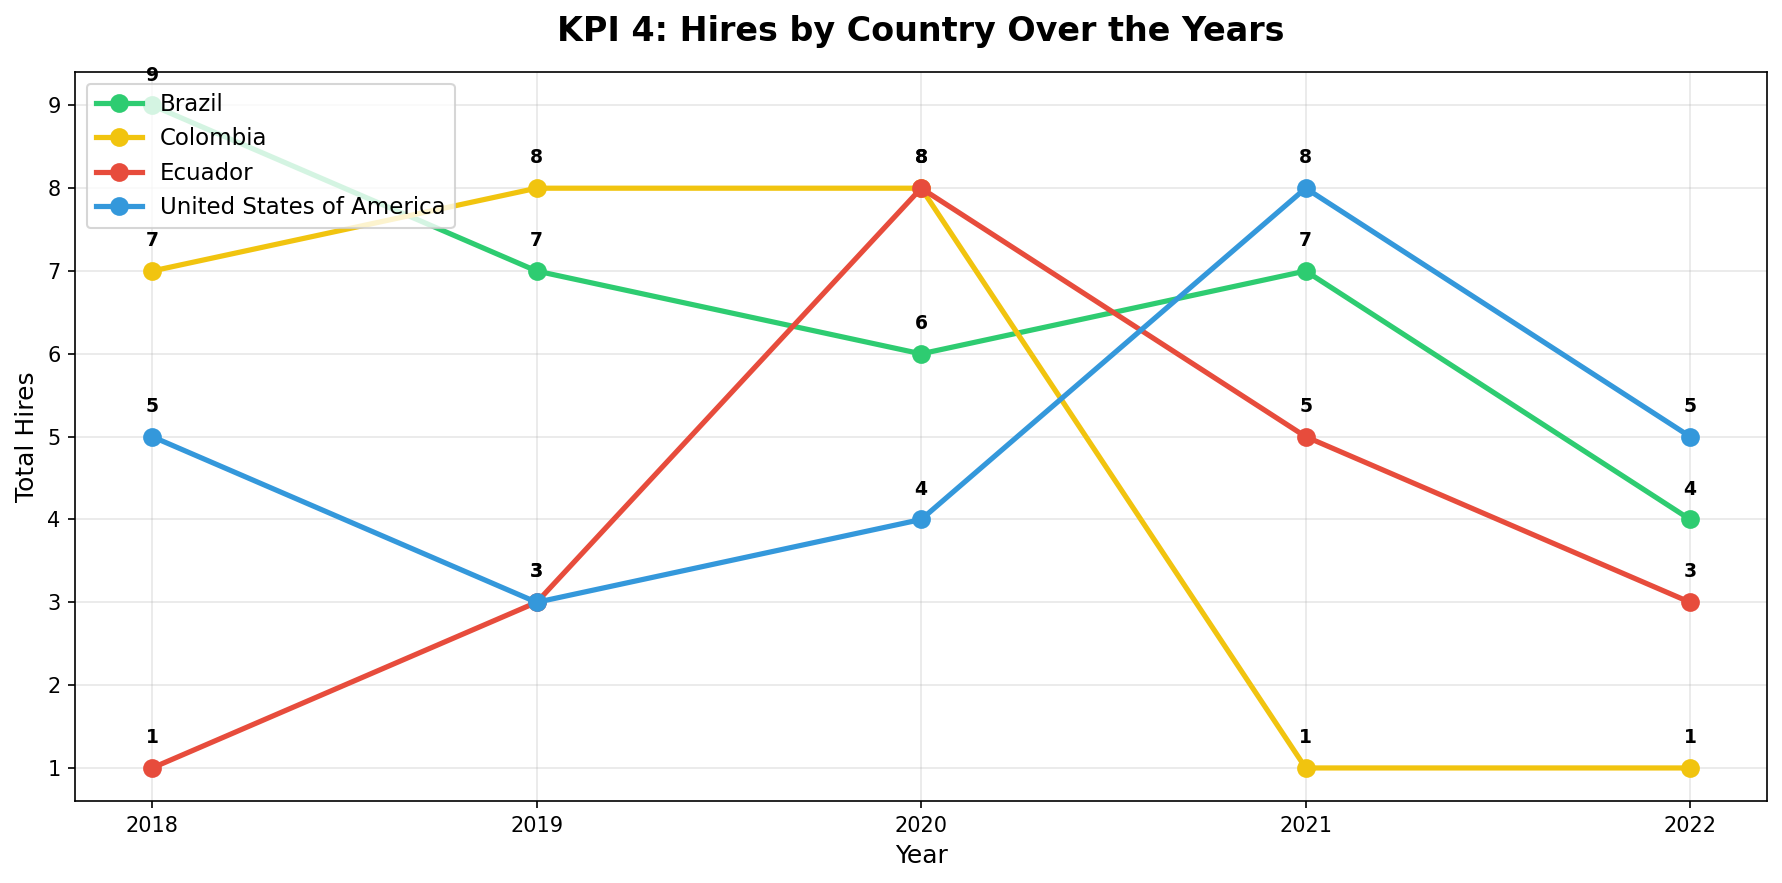

Layout of this report page (visuals, bound fields, positions):
{"tool":"powerbi","page":{"name":"Página 4","canvas":[1280,720],"ordinal":3},"visuals":[{"type":"lineChart","fields":{"Category":["dim_date.year"],"Series":["dim_country.country_name"],"Y":["Sum(fact_applications.is_hired)"]},"box":[0,0,1280.3,720.4],"z":0}]}

Visuals, with their boxes on the page's 1280x720 design canvas (x1, y1, x2, y2). These are canvas units, not pixel positions in the 1782x883 screenshot, which may show the page scaled, cropped or inside an application window:
lineChart - dim_date.year x dim_country.country_name: pyautogui.locateOnScreen(0, 0, 1280, 720)
